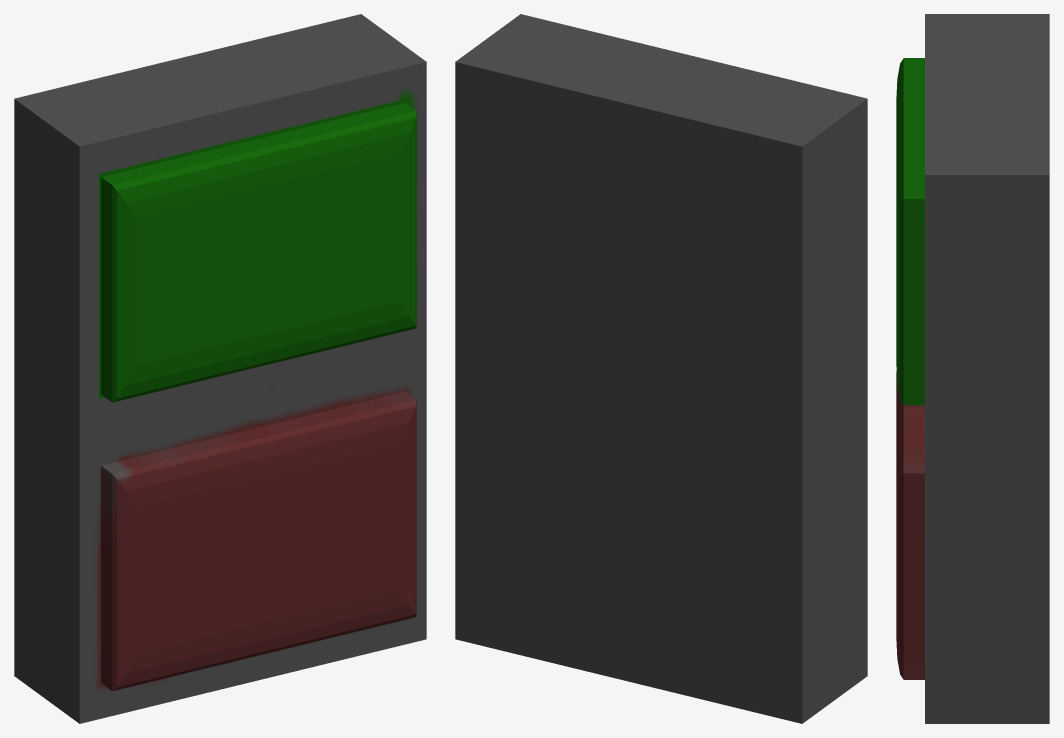
Rendered from ButtonModell.fbx.
3 views of the same model, side by side, from view 1: azimuth 30°, elevation 25°; view 2: azimuth 150°, elevation 25°; view 3: azimuth 270°, elevation 25° (orthographic). The views are drawn at different scales.
Parts seen in each view (by area): view 1: Cube; view 2: Cube; view 3: Cube.
Boxes of the visible parts, left/top/right/bottom form: Cube: left=14, top=14, right=426, bottom=723; Cube: left=455, top=14, right=867, bottom=723; Cube: left=896, top=14, right=1049, bottom=723.
Size of the model in its own units: 200 by 318 by 80.49.
1 material, 1 textured.
